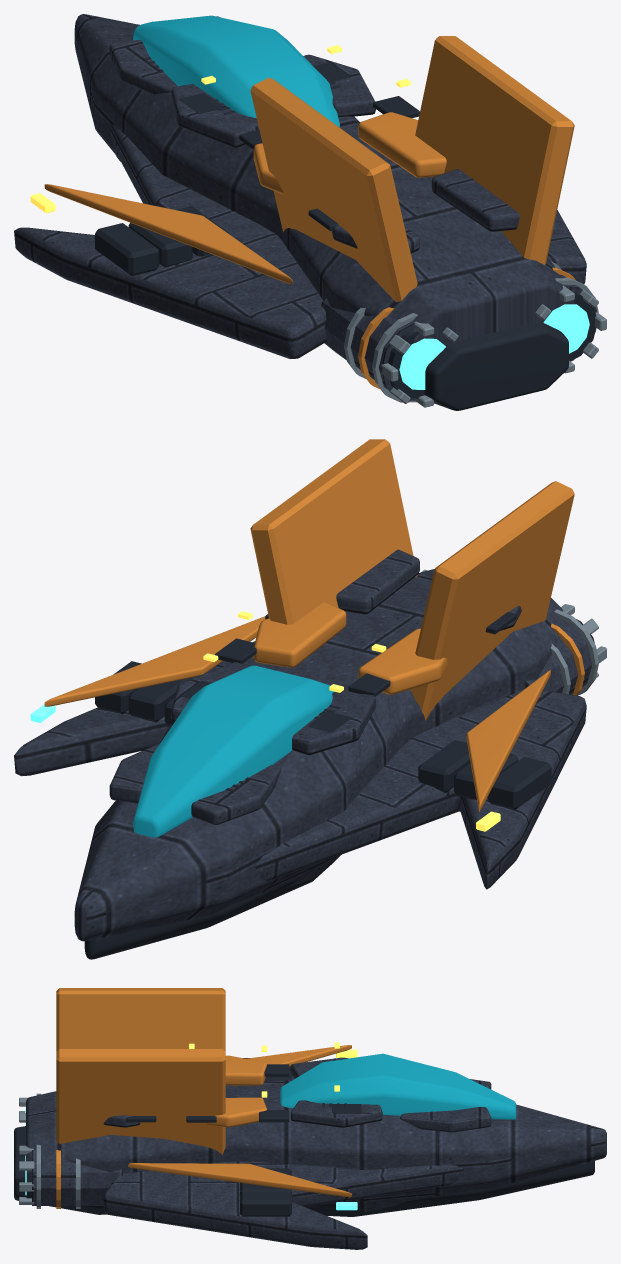
File: nomad.glb
3 renders of one model, top to bottom at view 1: azimuth 30°, elevation 25°; view 2: azimuth 150°, elevation 25°; view 3: azimuth 270°, elevation 25°, orthographic. The views are drawn at different scales.
Visible parts, largest first — view 1: Gôndola do motor.033 · exportação, Deriva traseira.001 · exportação, Bocal do motor.033 · exportação, Cabine panorâmica.016 · exportação, Aleta do bocal.271 · exportação, Núcleo propulsor.033 · exportação, Luz de serviço.135 · exportação; view 2: Gôndola do motor.033 · exportação, Deriva traseira.001 · exportação, Cabine panorâmica.016 · exportação, Bocal do motor.033 · exportação, Aleta do bocal.271 · exportação, Luz de serviço.135 · exportação; view 3: Gôndola do motor.033 · exportação, Deriva traseira.001 · exportação, Cabine panorâmica.016 · exportação, Bocal do motor.033 · exportação, Aleta do bocal.271 · exportação, Luz de serviço.135 · exportação.
Part boxes in pixels (bbox=[...]): Gôndola do motor.033 · exportação: bbox=[14, 14, 596, 400]; Deriva traseira.001 · exportação: bbox=[44, 36, 575, 389]; Bocal do motor.033 · exportação: bbox=[95, 57, 596, 410]; Cabine panorâmica.016 · exportação: bbox=[133, 15, 339, 127]; Aleta do bocal.271 · exportação: bbox=[344, 261, 606, 407]; Núcleo propulsor.033 · exportação: bbox=[399, 304, 589, 389]; Luz de serviço.135 · exportação: bbox=[30, 45, 410, 213]; Gôndola do motor.033 · exportação: bbox=[14, 549, 598, 941]; Deriva traseira.001 · exportação: bbox=[44, 439, 584, 812]; Cabine panorâmica.016 · exportação: bbox=[133, 665, 334, 837]; Bocal do motor.033 · exportação: bbox=[84, 612, 593, 959]; Aleta do bocal.271 · exportação: bbox=[421, 569, 606, 695]; Luz de serviço.135 · exportação: bbox=[203, 611, 500, 831]; Gôndola do motor.033 · exportação: bbox=[26, 1057, 606, 1249]; Deriva traseira.001 · exportação: bbox=[56, 988, 351, 1208]; Cabine panorâmica.016 · exportação: bbox=[280, 1053, 516, 1119]; Bocal do motor.033 · exportação: bbox=[14, 1058, 594, 1216]; Aleta do bocal.271 · exportação: bbox=[19, 1093, 80, 1208]; Luz de serviço.135 · exportação: bbox=[189, 1042, 357, 1097].
Size of the model in its own units: 31.76 by 16.54 by 49.
Materials: 7 (1 with a texture image).
